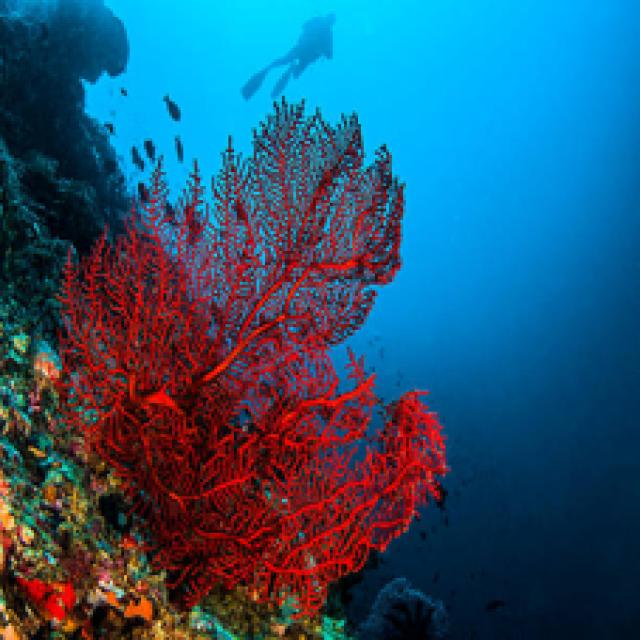Healthy: (66, 102, 444, 607)
